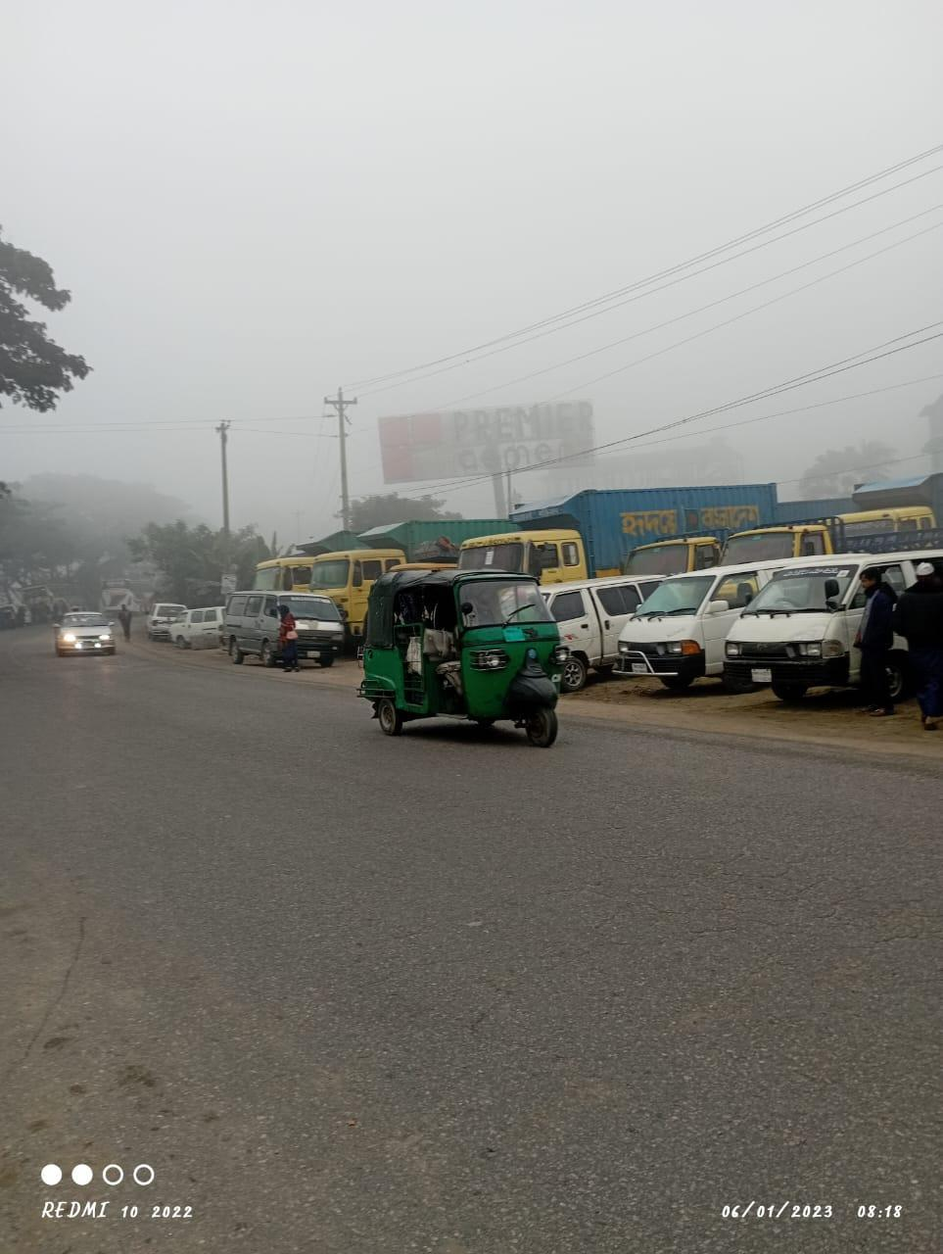Car: (727, 550, 943, 705), (611, 555, 726, 702), (213, 576, 347, 673), (539, 567, 644, 685), (49, 607, 118, 666), (162, 596, 221, 651)
